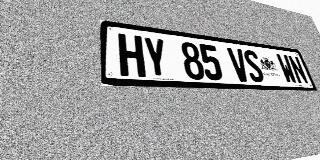5: (198, 44, 224, 81)
8: (179, 41, 206, 80)
H: (118, 33, 146, 77)
N: (287, 55, 309, 84)
S: (242, 49, 266, 82)
V: (226, 47, 251, 82)
W: (275, 54, 298, 84)
Y: (142, 36, 170, 78)
